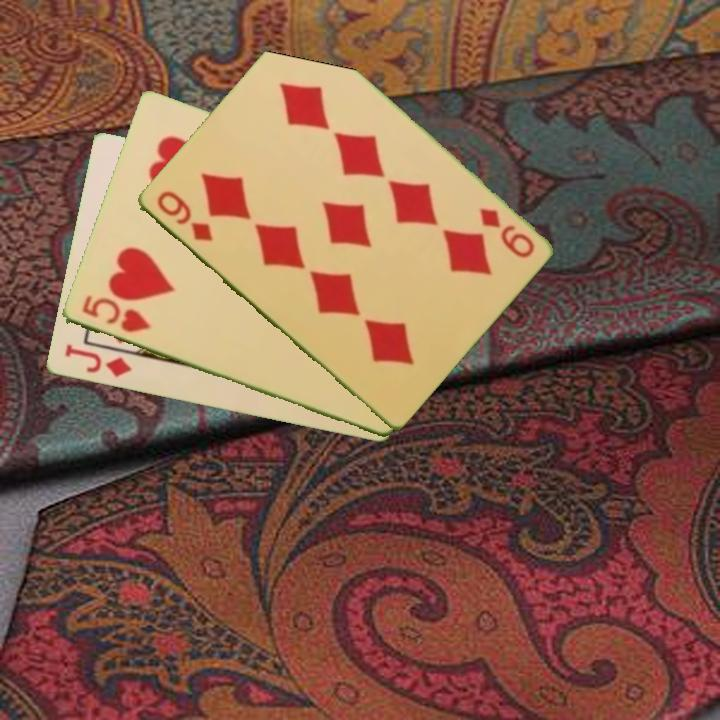5h: (78, 292, 153, 336)
9d: (152, 187, 216, 245), (475, 204, 537, 262)
Jd: (60, 340, 134, 381)
